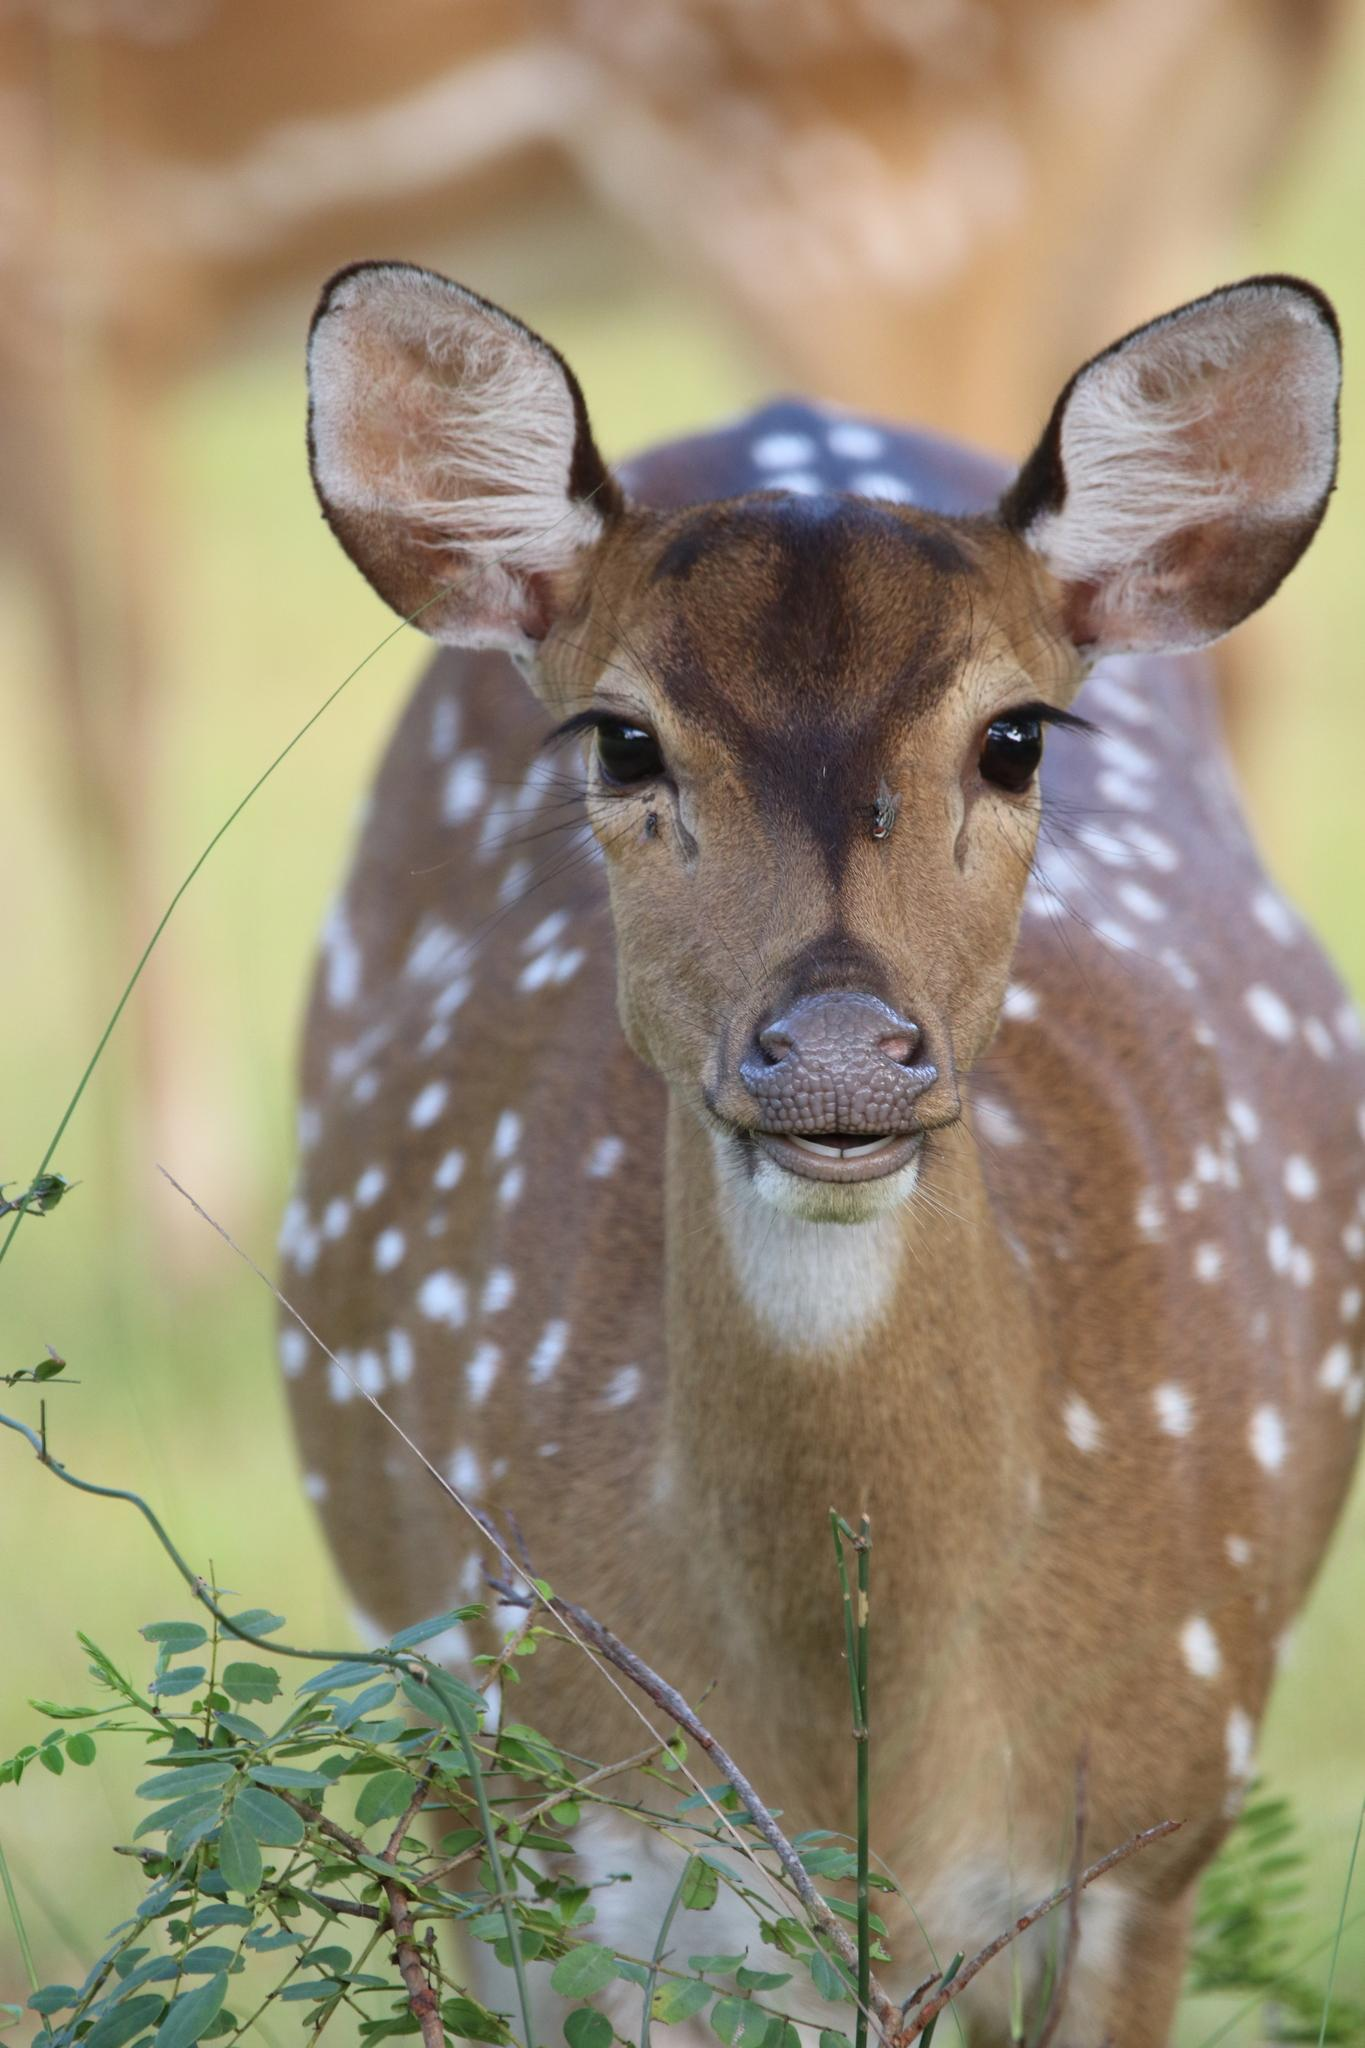Deer: (280, 263, 1360, 2046)
